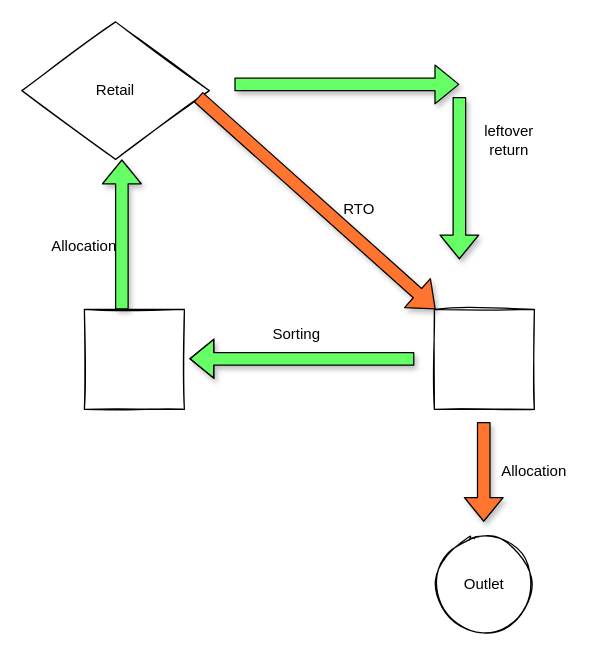
Some shapes in this 589 by 656 pixel diagram are drawn without their labels. Each missing label, with the centre of its shape:
"FP DC" belongs at [133,358].
"Outlet DC" belongs at [483,358].
